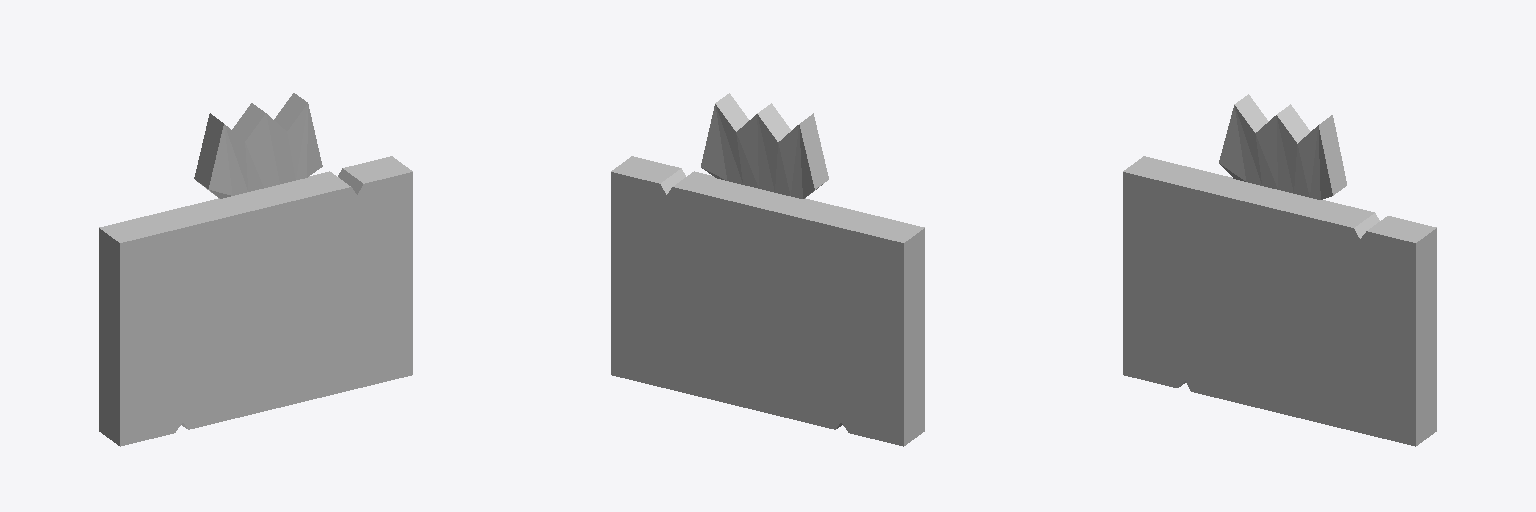
Rendered from Tabla.obj.
The picture shows the model from 3 angles: view 1: azimuth 30°, elevation 25°; view 2: azimuth 150°, elevation 25°; view 3: azimuth 330°, elevation 25°; orthographic projection.
Parts seen in each view (by area): view 1: Box001, Box002; view 2: Box001, Box002; view 3: Box001, Box002.
Boxes of the visible parts, box(x1,y1,x2,y2) form: Box001: box(99, 156, 412, 446); Box002: box(194, 93, 322, 198); Box001: box(611, 156, 924, 446); Box002: box(701, 93, 828, 198); Box001: box(1123, 156, 1436, 446); Box002: box(1219, 94, 1346, 199).
Size of the model in its own units: 46.41 by 44.47 by 5.85.